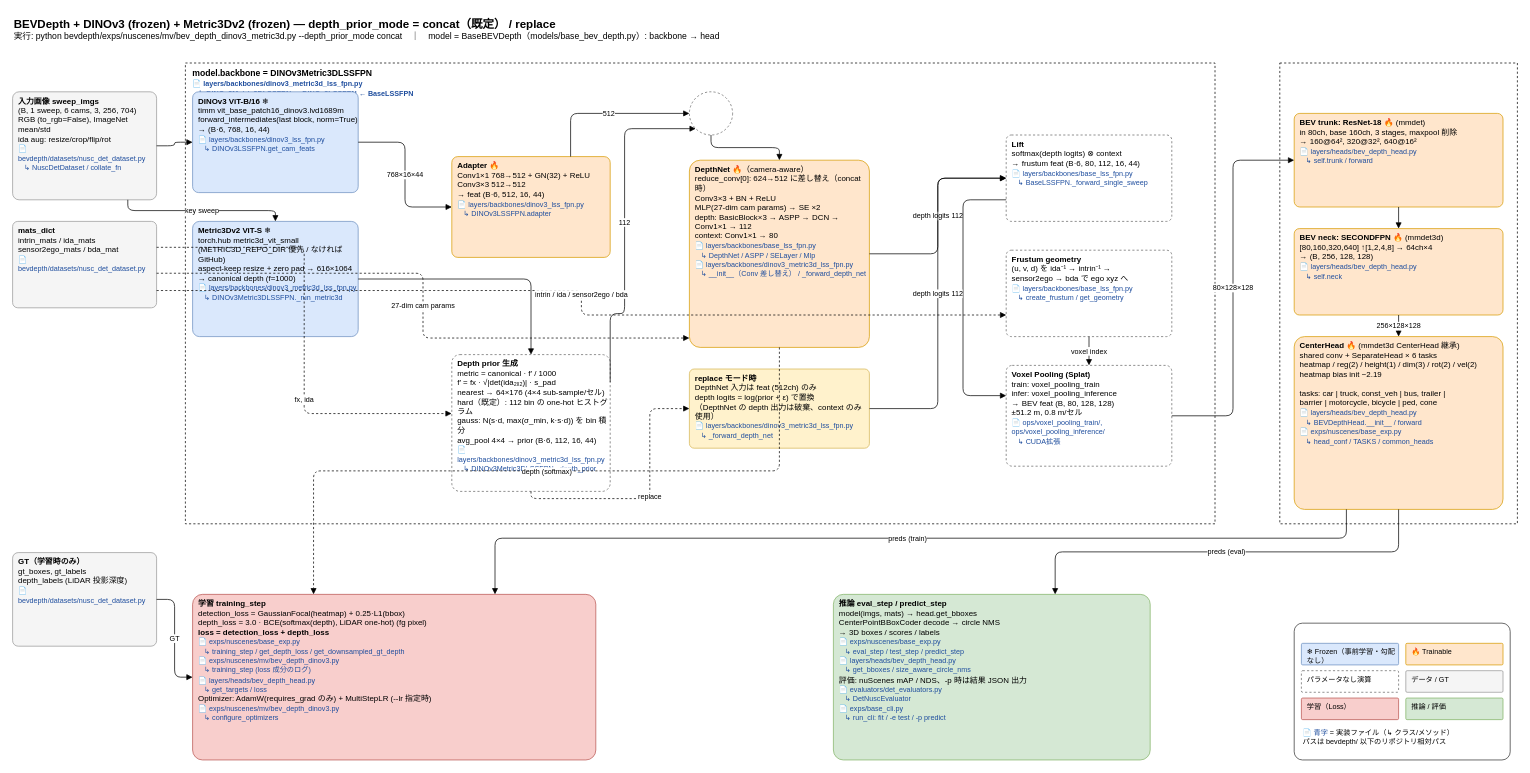
The diagram is 1530 pixels wide and 773 high, and some of its shapes have lost their labels. The shapes that lost their labels are listed below. From the top down, each one's box as (x1, y1, x2, y2) in pixels, then its label:
(689, 91, 733, 135): C 624ch
(1279, 62, 1517, 524): model.head = BEVDepthHead 📄 layers/heads/bev_depth_head.py ↳ BEVDepthHead
(1293, 622, 1510, 760): 凡例
